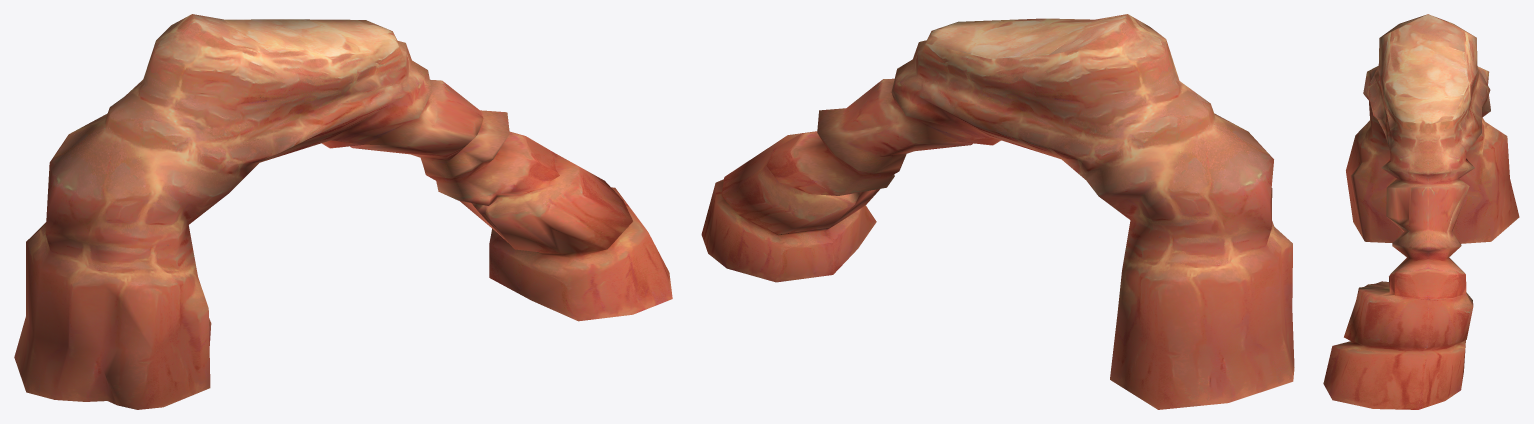
File: Demo_gongshi.FBX
The picture shows the model from 3 angles, left to right: view 1: azimuth 30°, elevation 25°; view 2: azimuth 150°, elevation 25°; view 3: azimuth 270°, elevation 25°; orthographic projection. The views are drawn at different scales.
Visible parts, largest first — view 1: Demo_gongshi; view 2: Demo_gongshi; view 3: Demo_gongshi.
Part boxes in pixels (x1,y1,x2,y2): Demo_gongshi: (14,14,672,409); Demo_gongshi: (701,14,1294,409); Demo_gongshi: (1323,14,1519,409).
Size of the model in its own units: 16.58 by 8.53 by 6.32.
